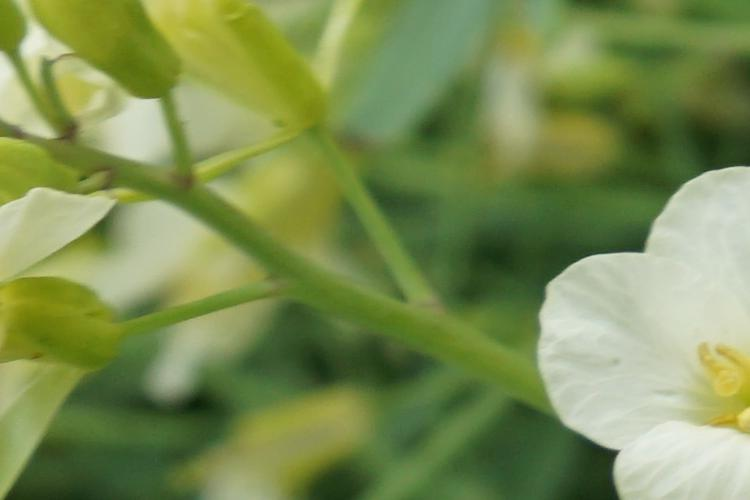white: (562, 152, 750, 496)
